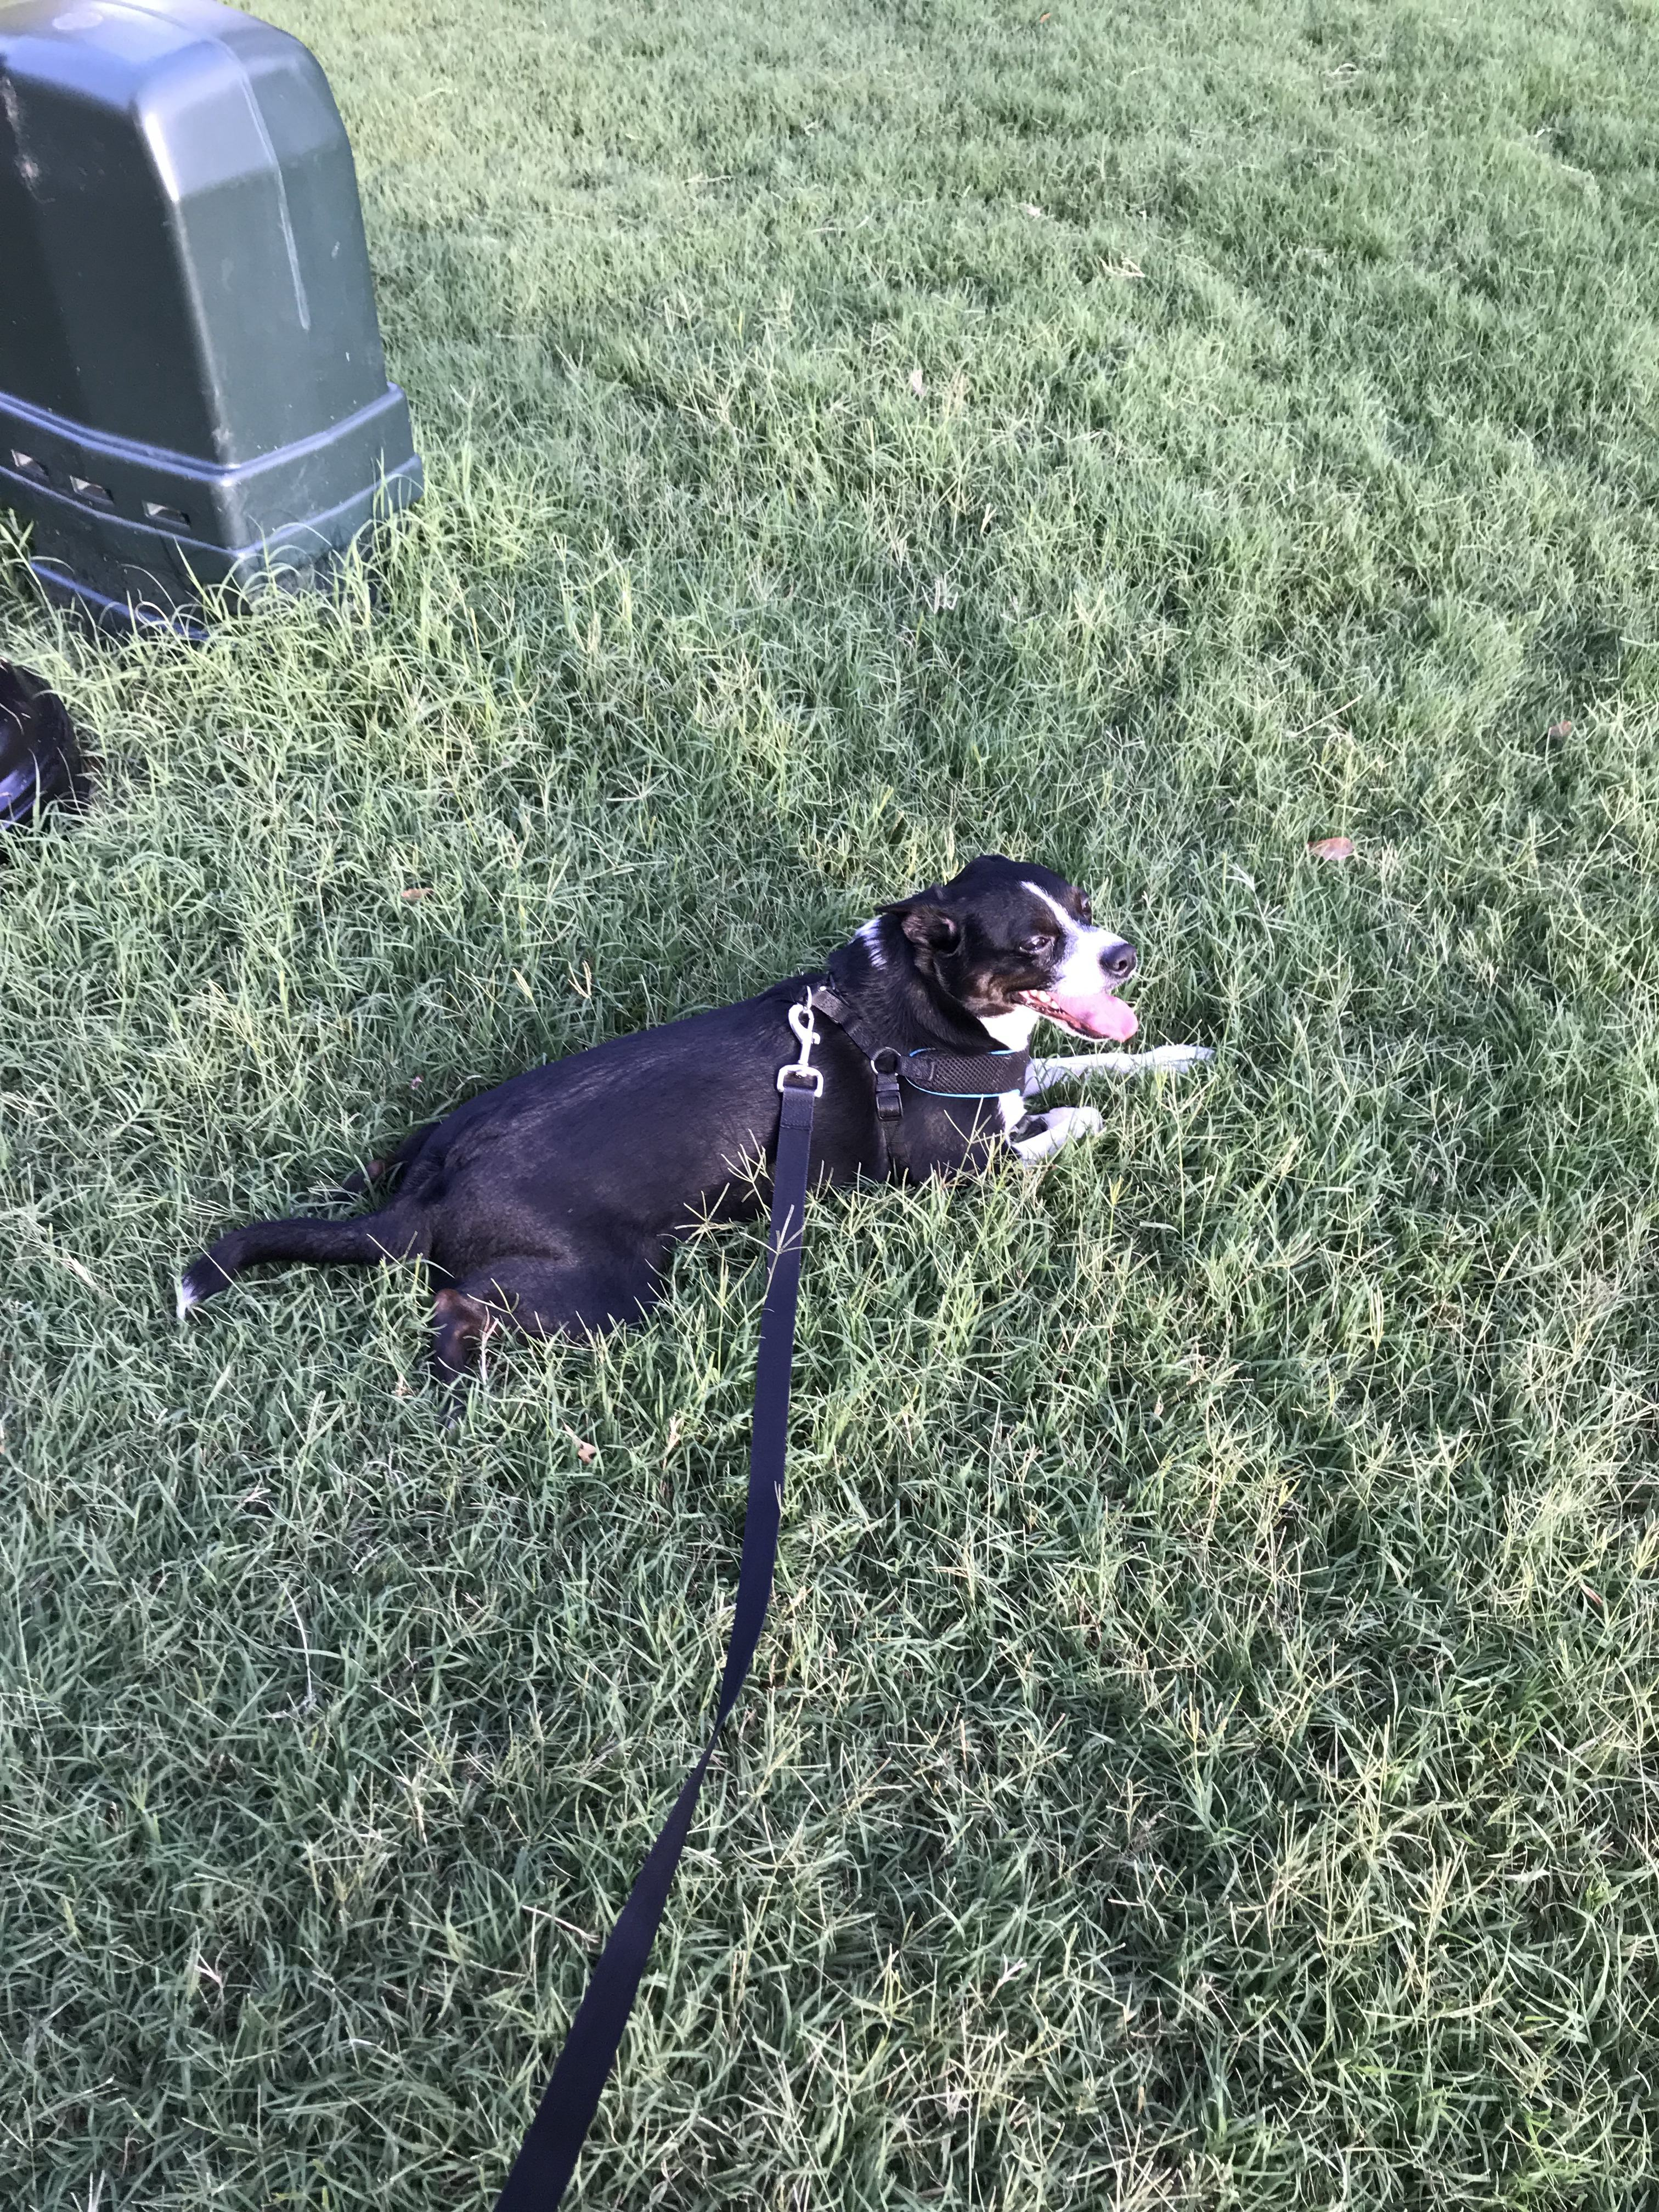Harley: (141, 848, 1230, 1428)
